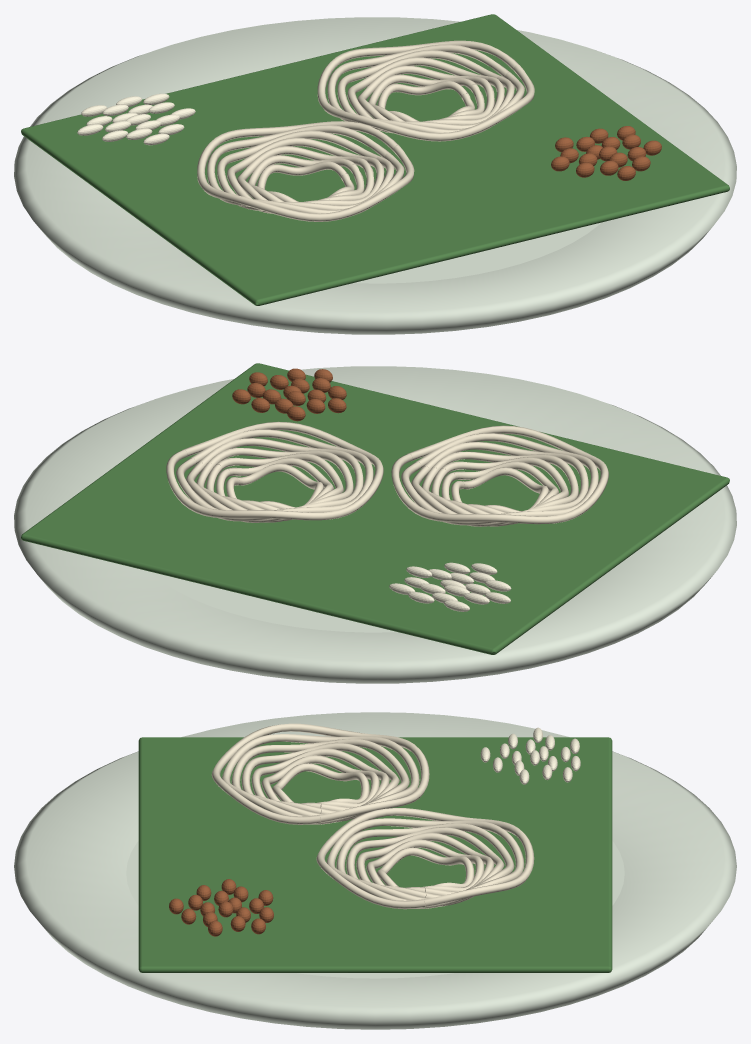
3 renders of one model, top to bottom at view 1: azimuth 30°, elevation 25°; view 2: azimuth 150°, elevation 25°; view 3: azimuth 270°, elevation 25°, orthographic.
Visible parts, largest first — view 1: Liner, Plate, Noodles, Garnish; view 2: Liner, Plate, Noodles, Garnish; view 3: Liner, Plate, Noodles, Garnish.
Part boxes in pixels (x1,y1,x2,y2): Liner: (21,14,729,305); Plate: (14,17,736,334); Noodles: (197,40,534,221); Garnish: (77,93,661,180); Liner: (21,363,729,654); Plate: (14,366,736,683); Noodles: (166,421,608,526); Garnish: (232,368,511,611); Liner: (138,737,612,972); Plate: (14,712,736,1029); Noodles: (211,723,534,909); Garnish: (169,727,580,936).
Size of the model in its own units: 0.29 by 0.0389 by 0.29.
